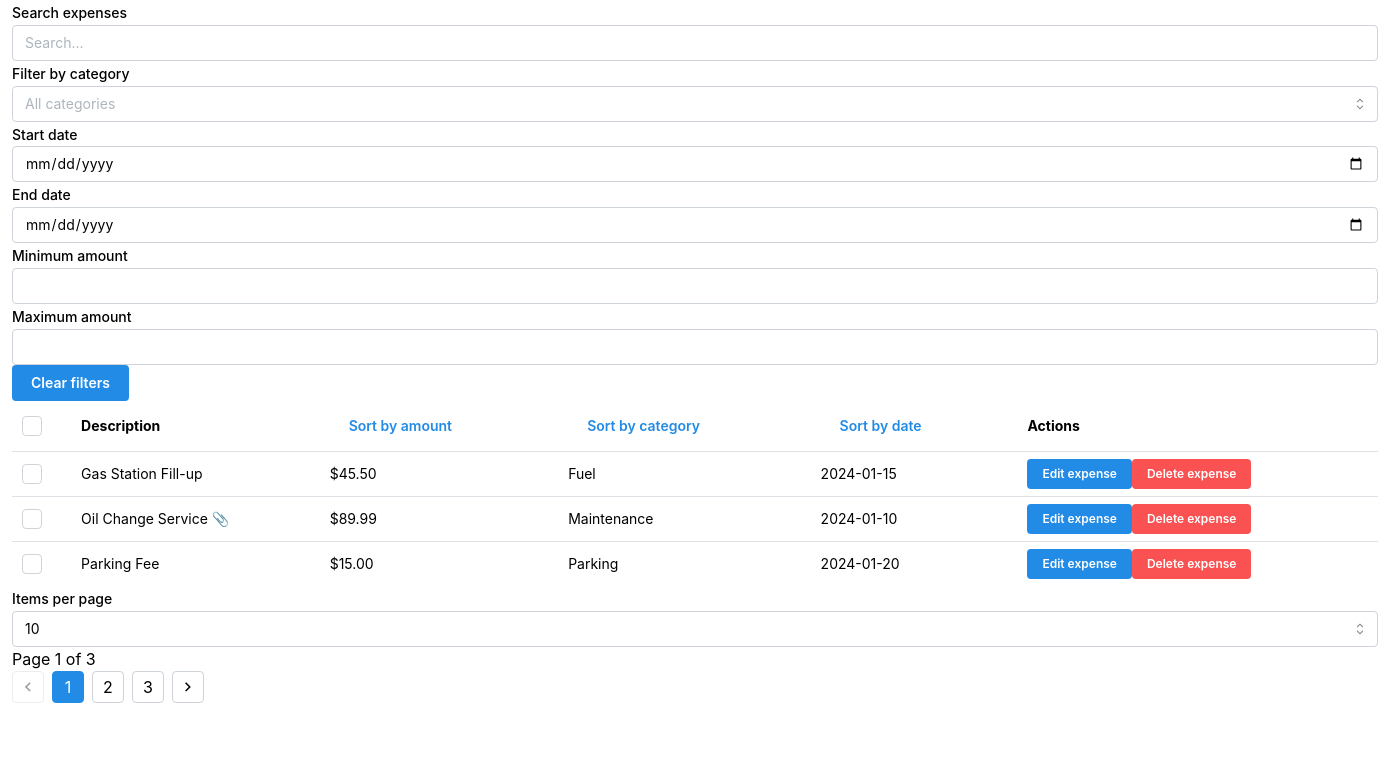
Scenario: ExpenseList › Sorting › should toggle sort direction when clicking same sort button twice
# First click - ascending
Click the button with test id "sort-amount" at (400, 426), box [330,408,471,444]
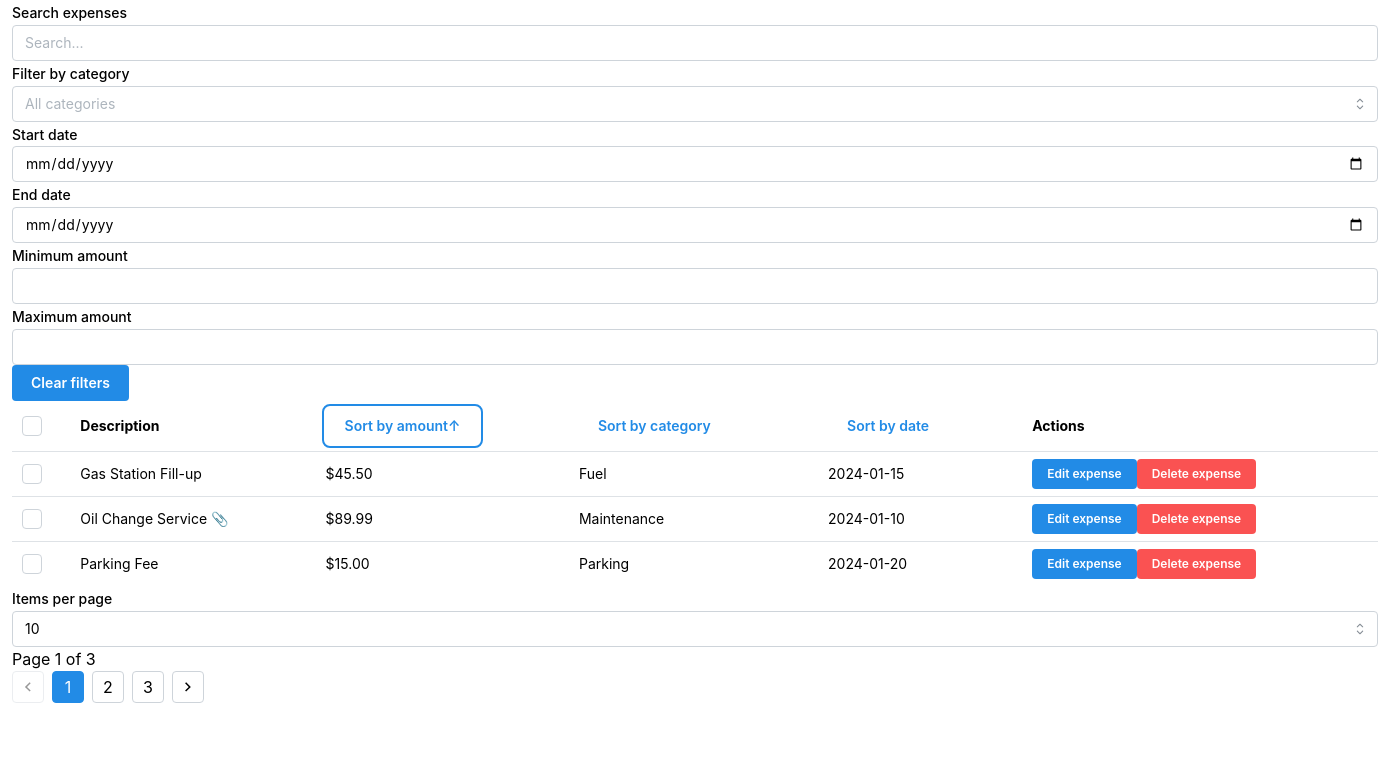
Now the text "↑" is shown, box [448,419,460,433]
# Second click - descending
Click the button with test id "sort-amount" at (402, 426), box [326,408,479,444]
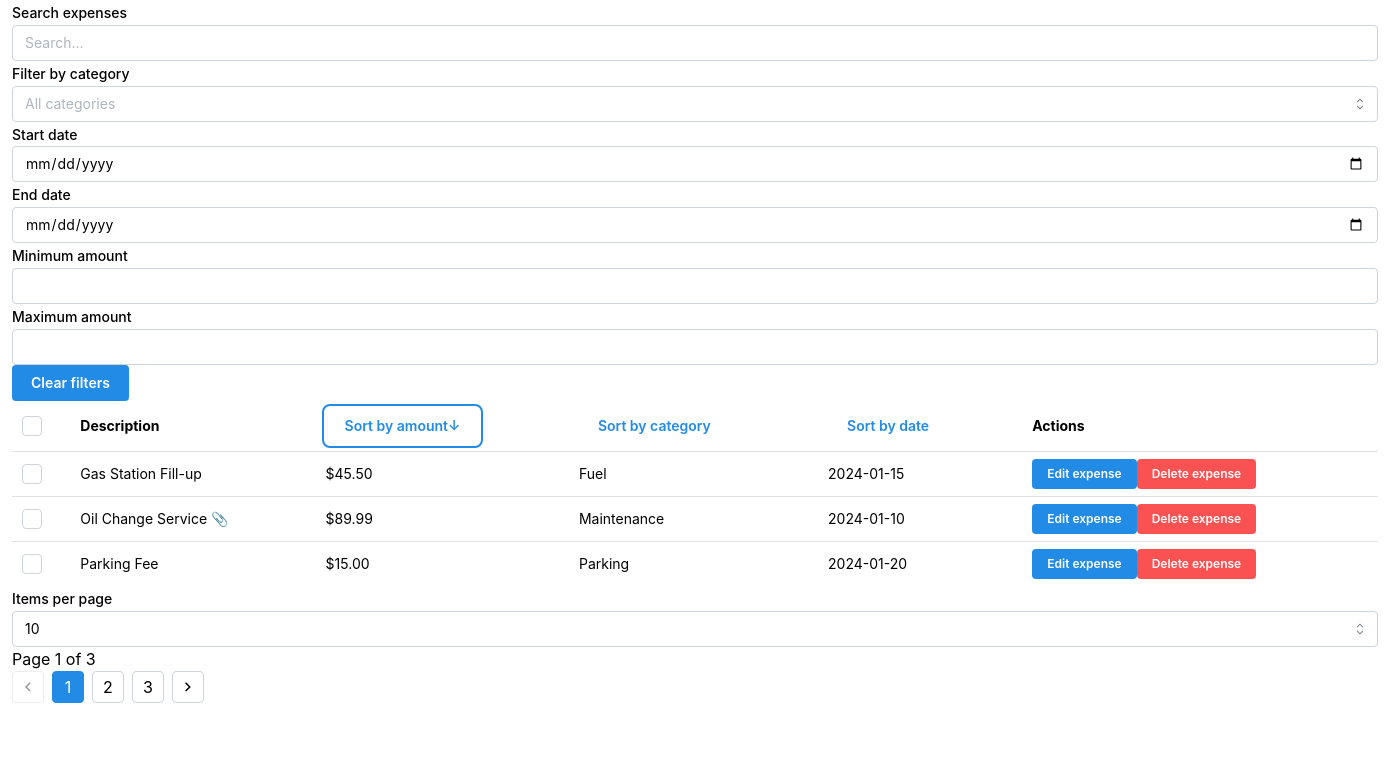
Now the text "↓" is shown, box [448,419,460,433]
